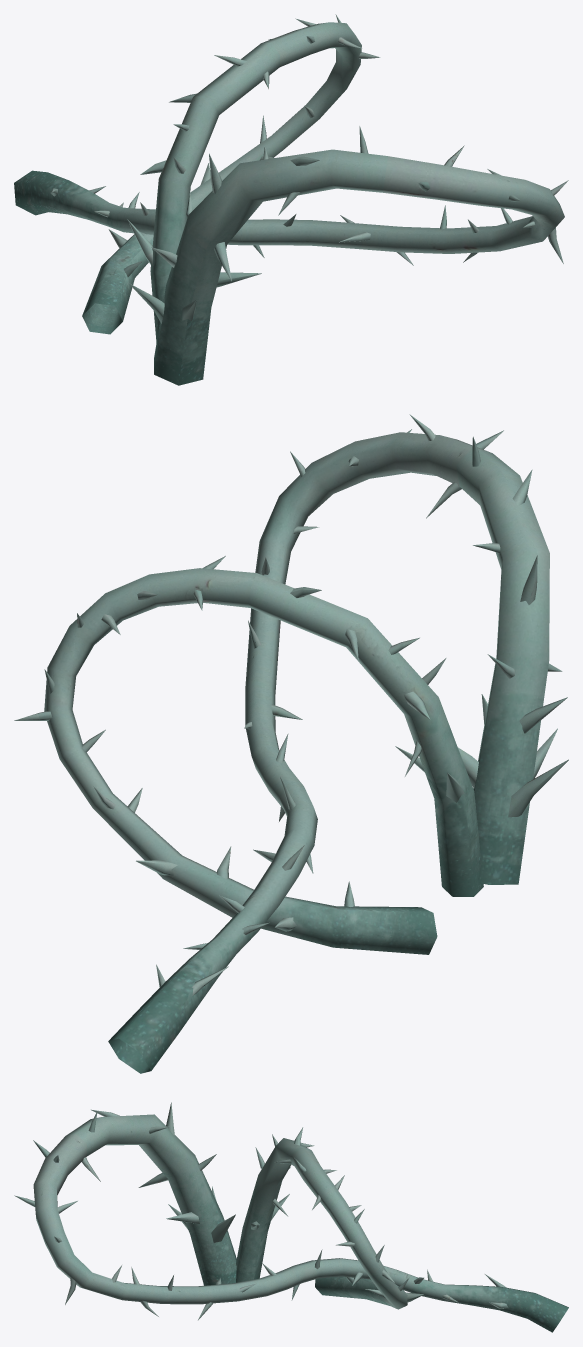
Rendered from abstract-fantasy-deco 1.fbx.
The picture shows the model from 3 angles, top to bottom: view 1: azimuth 30°, elevation 25°; view 2: azimuth 150°, elevation 25°; view 3: azimuth 270°, elevation 25°; orthographic projection. The views are drawn at different scales.
Visible parts, largest first — view 1: thing-05_d; view 2: thing-05_d; view 3: thing-05_d.
Boxes of the visible parts, x1,y1,x2,y2 form: thing-05_d: (14,14,568,385); thing-05_d: (14,414,568,1073); thing-05_d: (14,1102,568,1332).
Size of the model in its own units: 229 by 196 by 427.
Materials: 1 (1 with a texture image).
